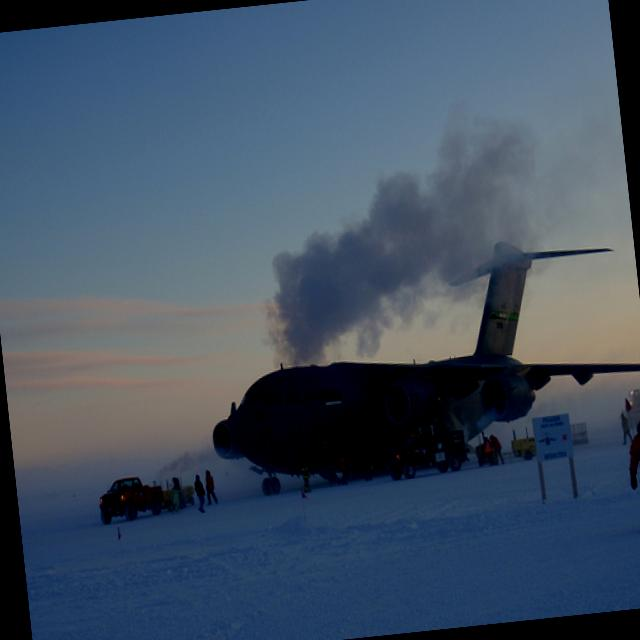Vehicle: (379, 418, 473, 481), (96, 474, 166, 526), (158, 472, 196, 512), (511, 436, 536, 462)
